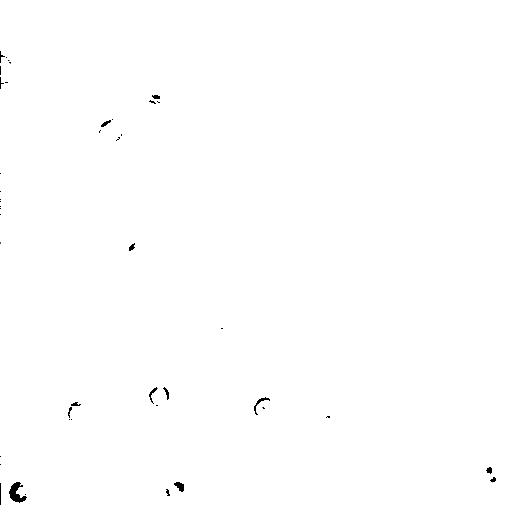micro-algae: (150, 461, 196, 508), (2, 473, 38, 509), (94, 111, 125, 143), (121, 234, 153, 264), (477, 458, 504, 493), (63, 398, 92, 422), (146, 383, 171, 407), (1, 52, 15, 83), (254, 397, 272, 415)
